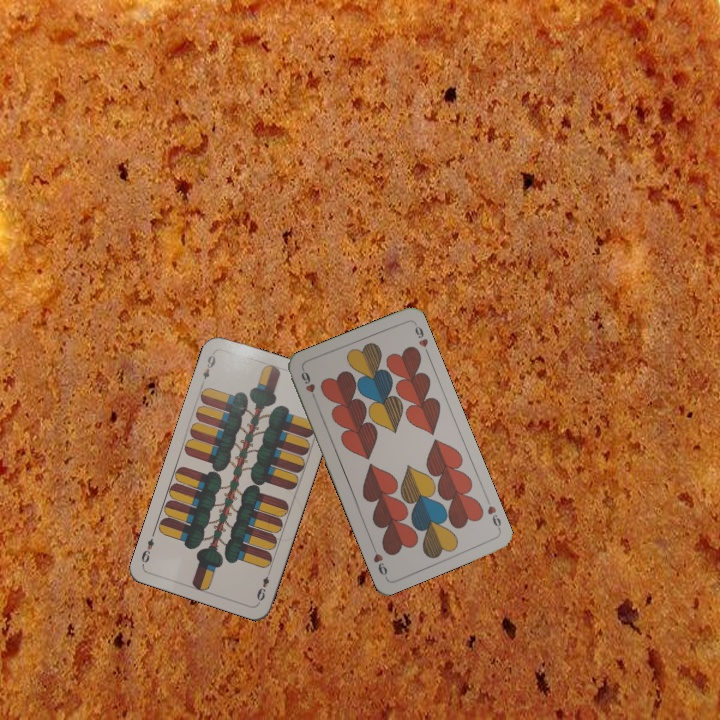E9: (252, 566, 272, 605), (198, 351, 218, 388)
H9: (297, 366, 320, 404), (482, 494, 504, 533)
